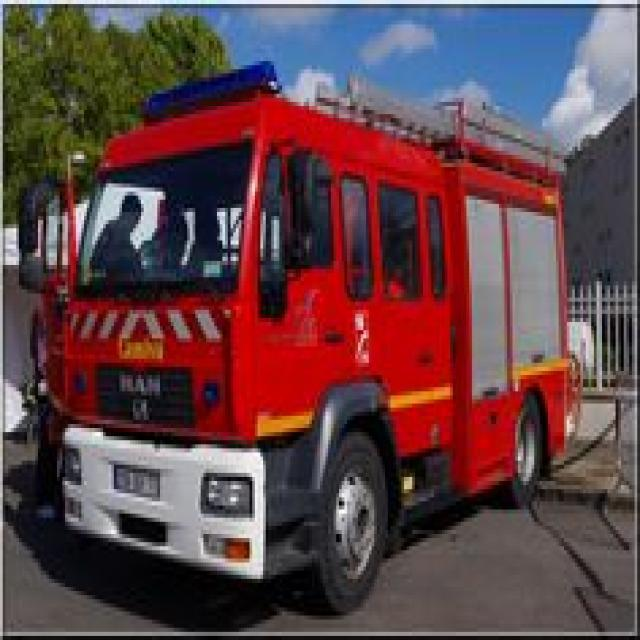emergency: (61, 60, 571, 620)
